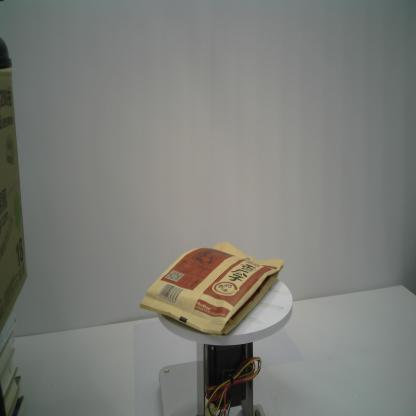Dried Food: (138, 240, 285, 339)
